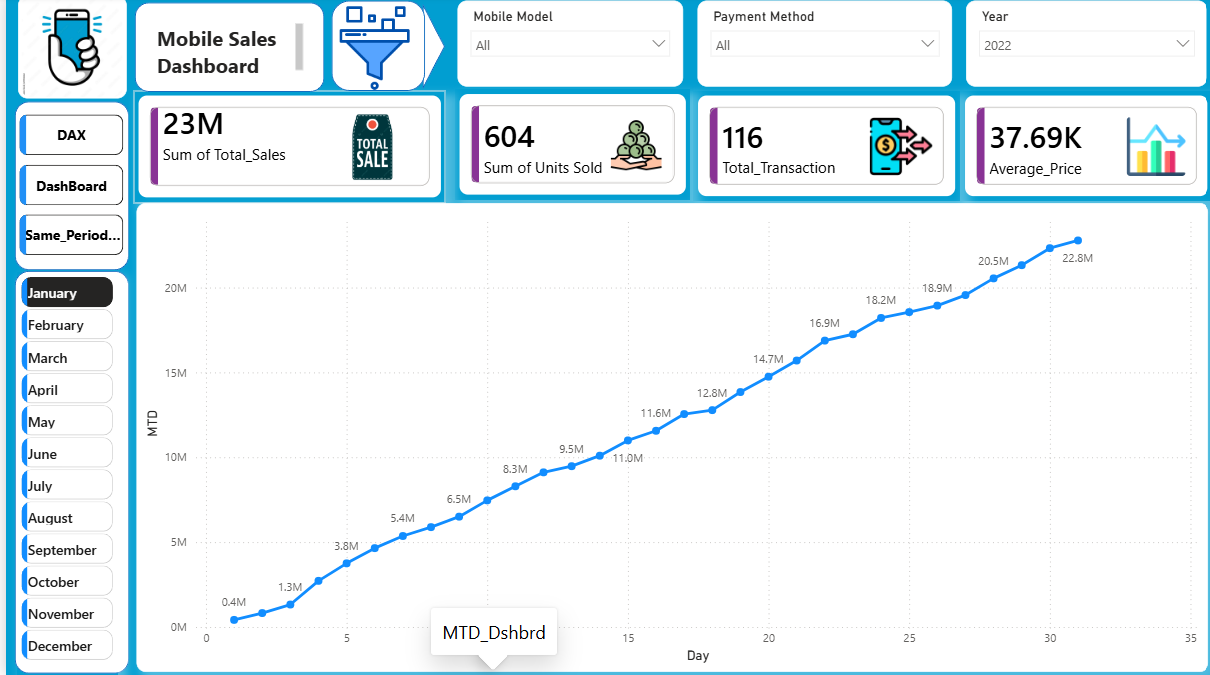

This screenshot's page, from the dashboard's own definition file:
{"tool":"powerbi","page":{"name":"MTD_Dshbrd","canvas":[1280,720],"ordinal":2},"visuals":[{"type":"shape","box":[0,109,130.1,183],"z":1000},{"type":"image","box":[12,0,115,109],"z":2000},{"type":"cardVisual","fields":{"Data":["Sum(Mobile_Sales_Data.Total_Sales)"]},"box":[135,101,331,118],"z":3000},{"type":"cardVisual","fields":{"Data":["Mobile_Sales_Data.Total_Transaction"]},"box":[728.7,100,283,117.1],"z":4000},{"type":"cardVisual","fields":{"Data":["Sum(Mobile_Sales_Data.Units Sold)"]},"box":[475,99.2,250,117.1],"z":5000},{"type":"cardVisual","fields":{"Data":["Mobile_Sales_Data.Average_Price"]},"box":[1011.7,100,268.4,117.1],"z":6000},{"type":"shape","box":[128,4,210,99],"z":7000},{"type":"shape","box":[418,8.1,47.2,91.1],"z":8000},{"type":"slicer","fields":{"Values":["Mobile_Sales_Data.Payment Method"]},"box":[734,5,270,91],"z":9000},{"type":"slicer","fields":{"Values":["Custom_Calendar.Date.Variation.Date Hierarchy.Year"]},"box":[1018.2,5,256,91],"z":10000},{"type":"shape","box":[344.8,4.9,99.2,96],"z":11000},{"type":"image","box":[336.7,9.8,107.4,91.1],"z":12000},{"type":"textbox","box":[154.5,24.4,165.9,63.4],"z":13000},{"type":"slicer","fields":{"Values":["Mobile_Sales_Data.Mobile Model"]},"box":[478.2,5,239.1,91.1],"z":14000},{"type":"shape","box":[0,289.5,130.1,431],"z":14500},{"type":"lineChart","fields":{"Y":["Mobile_Sales_Data.MTD"],"Category":["Custom_Calendar.Date.Variation.Date Hierarchy.Year","Custom_Calendar.Date.Variation.Date Hierarchy.Quarter","Custom_Calendar.Date.Variation.Date Hierarchy.Month","Custom_Calendar.Date.Variation.Date Hierarchy.Day"]},"box":[138,219,1137,497],"z":15000},{"type":"advancedSlicerVisual","fields":{"Values":["Custom_Calendar.Date.Variation.Date Hierarchy.Month"]},"box":[11.4,292.8,107.4,427.8],"z":16000},{"type":"pageNavigator","box":[14.6,125,110.6,150],"z":16001}]}

Visuals, with their boxes on the page's 1280x720 design canvas (x1, y1, x2, y2). These are canvas units, not pixel positions in the 1210x675 screenshot, which may show the page scaled, cropped or inside an application window:
shape: x1=0 y1=109 x2=130 y2=292
image: x1=12 y1=0 x2=127 y2=109
cardVisual - Sum(Mobile_Sales_Data.Total_Sales): x1=135 y1=101 x2=466 y2=219
cardVisual - Mobile_Sales_Data.Total_Transaction: x1=729 y1=100 x2=1012 y2=217
cardVisual - Sum(Mobile_Sales_Data.Units Sold): x1=475 y1=99 x2=725 y2=216
cardVisual - Mobile_Sales_Data.Average_Price: x1=1012 y1=100 x2=1280 y2=217
shape: x1=128 y1=4 x2=338 y2=103
shape: x1=418 y1=8 x2=465 y2=99
slicer - Mobile_Sales_Data.Payment Method: x1=734 y1=5 x2=1004 y2=96
slicer - Custom_Calendar.Date.Variation.Date Hierarchy.Year: x1=1018 y1=5 x2=1274 y2=96
shape: x1=345 y1=5 x2=444 y2=101
image: x1=337 y1=10 x2=444 y2=101
textbox: x1=154 y1=24 x2=320 y2=88
slicer - Mobile_Sales_Data.Mobile Model: x1=478 y1=5 x2=717 y2=96
shape: x1=0 y1=290 x2=130 y2=720
lineChart - Mobile_Sales_Data.MTD x Custom_Calendar.Date.Variation.Date Hierarchy.Year: x1=138 y1=219 x2=1275 y2=716
advancedSlicerVisual - Custom_Calendar.Date.Variation.Date Hierarchy.Month: x1=11 y1=293 x2=119 y2=721
pageNavigator: x1=15 y1=125 x2=125 y2=275
